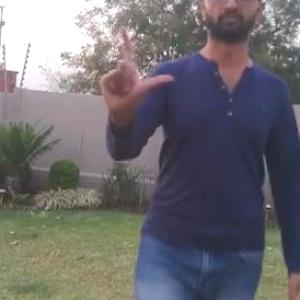land_hand: (93, 24, 176, 111)
